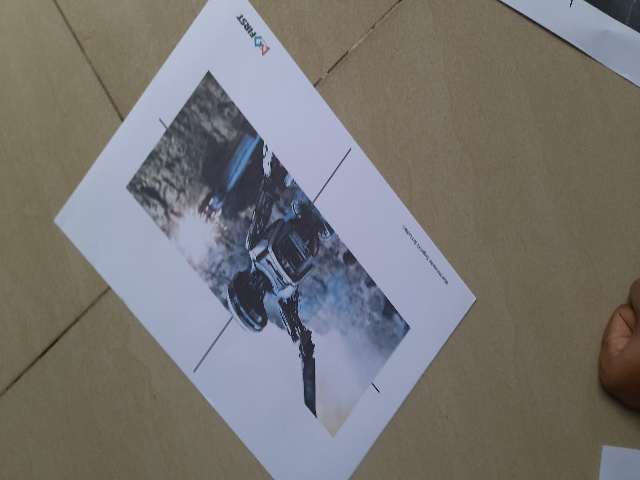bpt2: (93, 49, 424, 440)
